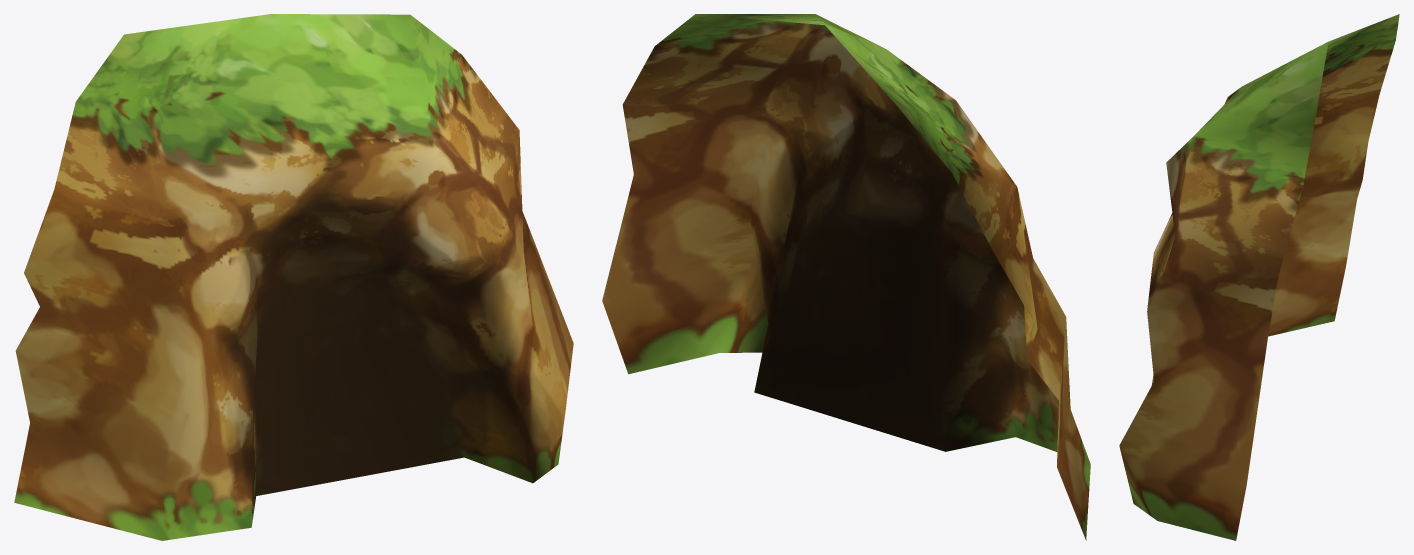
File: ground_cave.fbx
3 renders of one model, left to right at view 1: azimuth 30°, elevation 25°; view 2: azimuth 150°, elevation 25°; view 3: azimuth 270°, elevation 25°, orthographic. The views are drawn at different scales.
Visible parts, largest first — view 1: ground_cave; view 2: ground_cave; view 3: ground_cave.
Boxes of the visible parts, x1=… form: ground_cave: x1=14, y1=14, x2=573, y2=540; ground_cave: x1=602, y1=14, x2=1090, y2=540; ground_cave: x1=1119, y1=14, x2=1399, y2=540.
Bounding box in the file's own units: 499 × 400 × 259.
